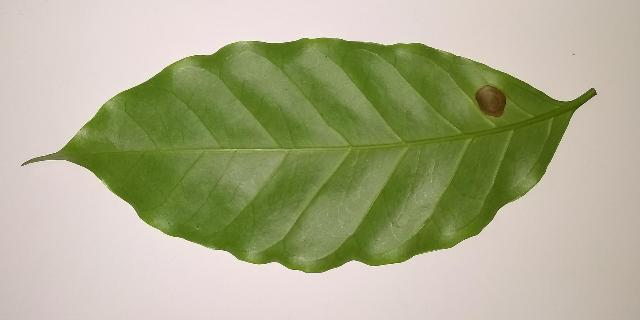rust: (476, 85, 506, 116)
